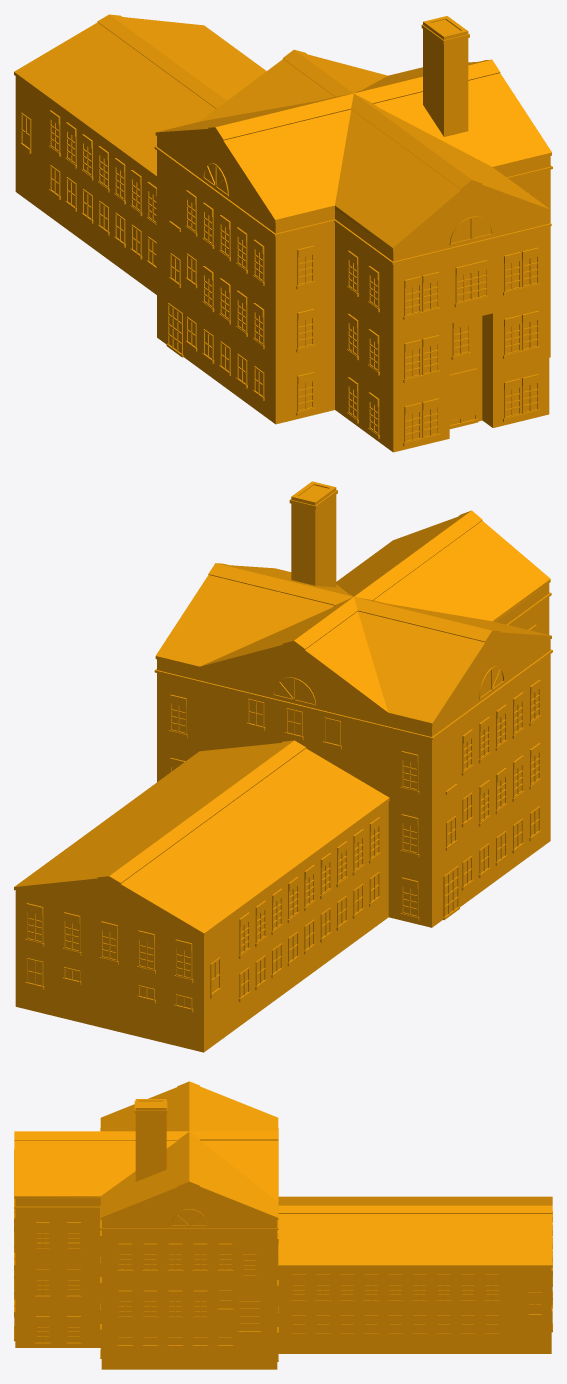
The model's file is 02 Richmond School yellow.fbx.
3 renders of one model, top to bottom at view 1: azimuth 30°, elevation 25°; view 2: azimuth 150°, elevation 25°; view 3: azimuth 270°, elevation 25°, orthographic. The views are drawn at different scales.
Parts seen in each view (by area): view 1: Model; view 2: Model; view 3: Model.
Boxes of the visible parts, box(x1,y1,x2,y2) form: Model: box(14, 14, 552, 452); Model: box(14, 481, 552, 1052); Model: box(14, 1081, 552, 1369).
Bounding box in the file's own units: 138 × 154 × 312.
